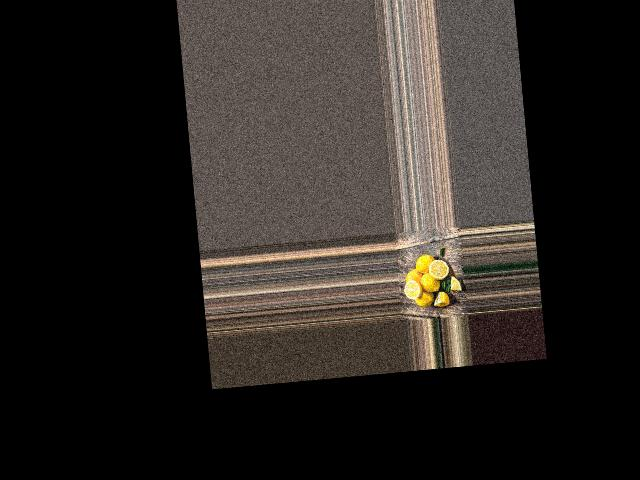lemon: (415, 288, 436, 308)
